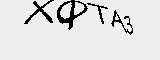А: (106, 11, 127, 37)
З: (123, 13, 137, 38)
Т: (86, 1, 110, 25)
Ф: (56, 1, 87, 28)
Х: (26, 1, 54, 29)
